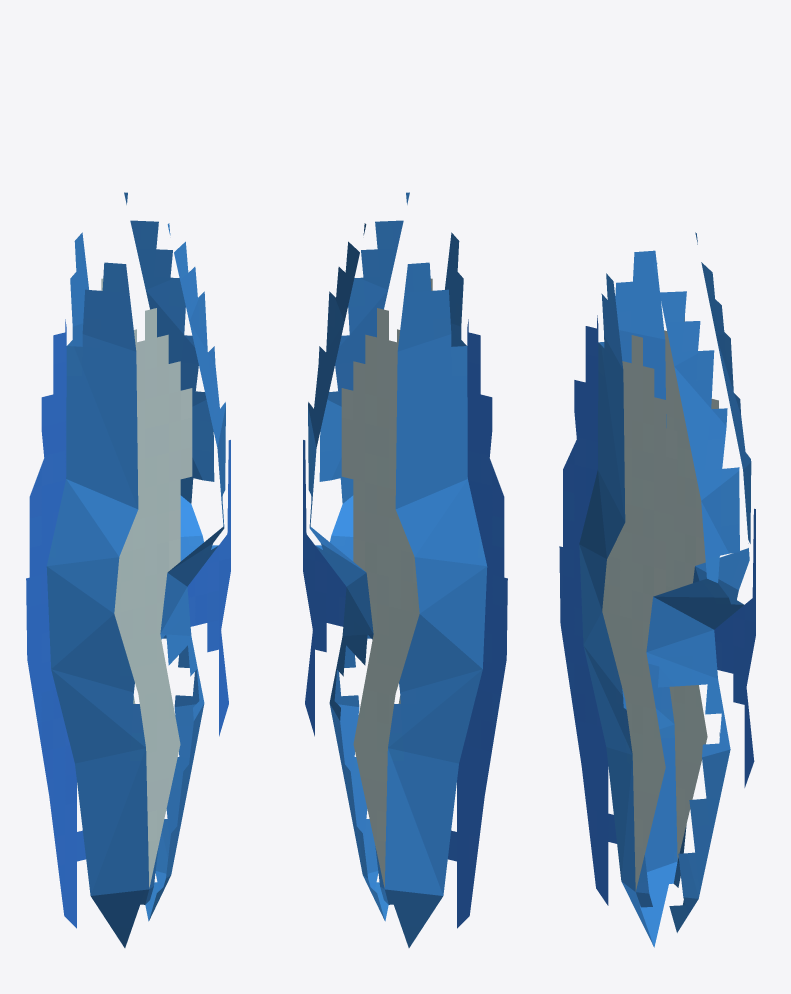
The model's file is sanction.obj.
3 renders of one model, left to right at view 1: azimuth 30°, elevation 25°; view 2: azimuth 150°, elevation 25°; view 3: azimuth 330°, elevation 25°, orthographic. The views are drawn at different scales.
Size of the model in its own units: 31.56 by 125 by 10.
